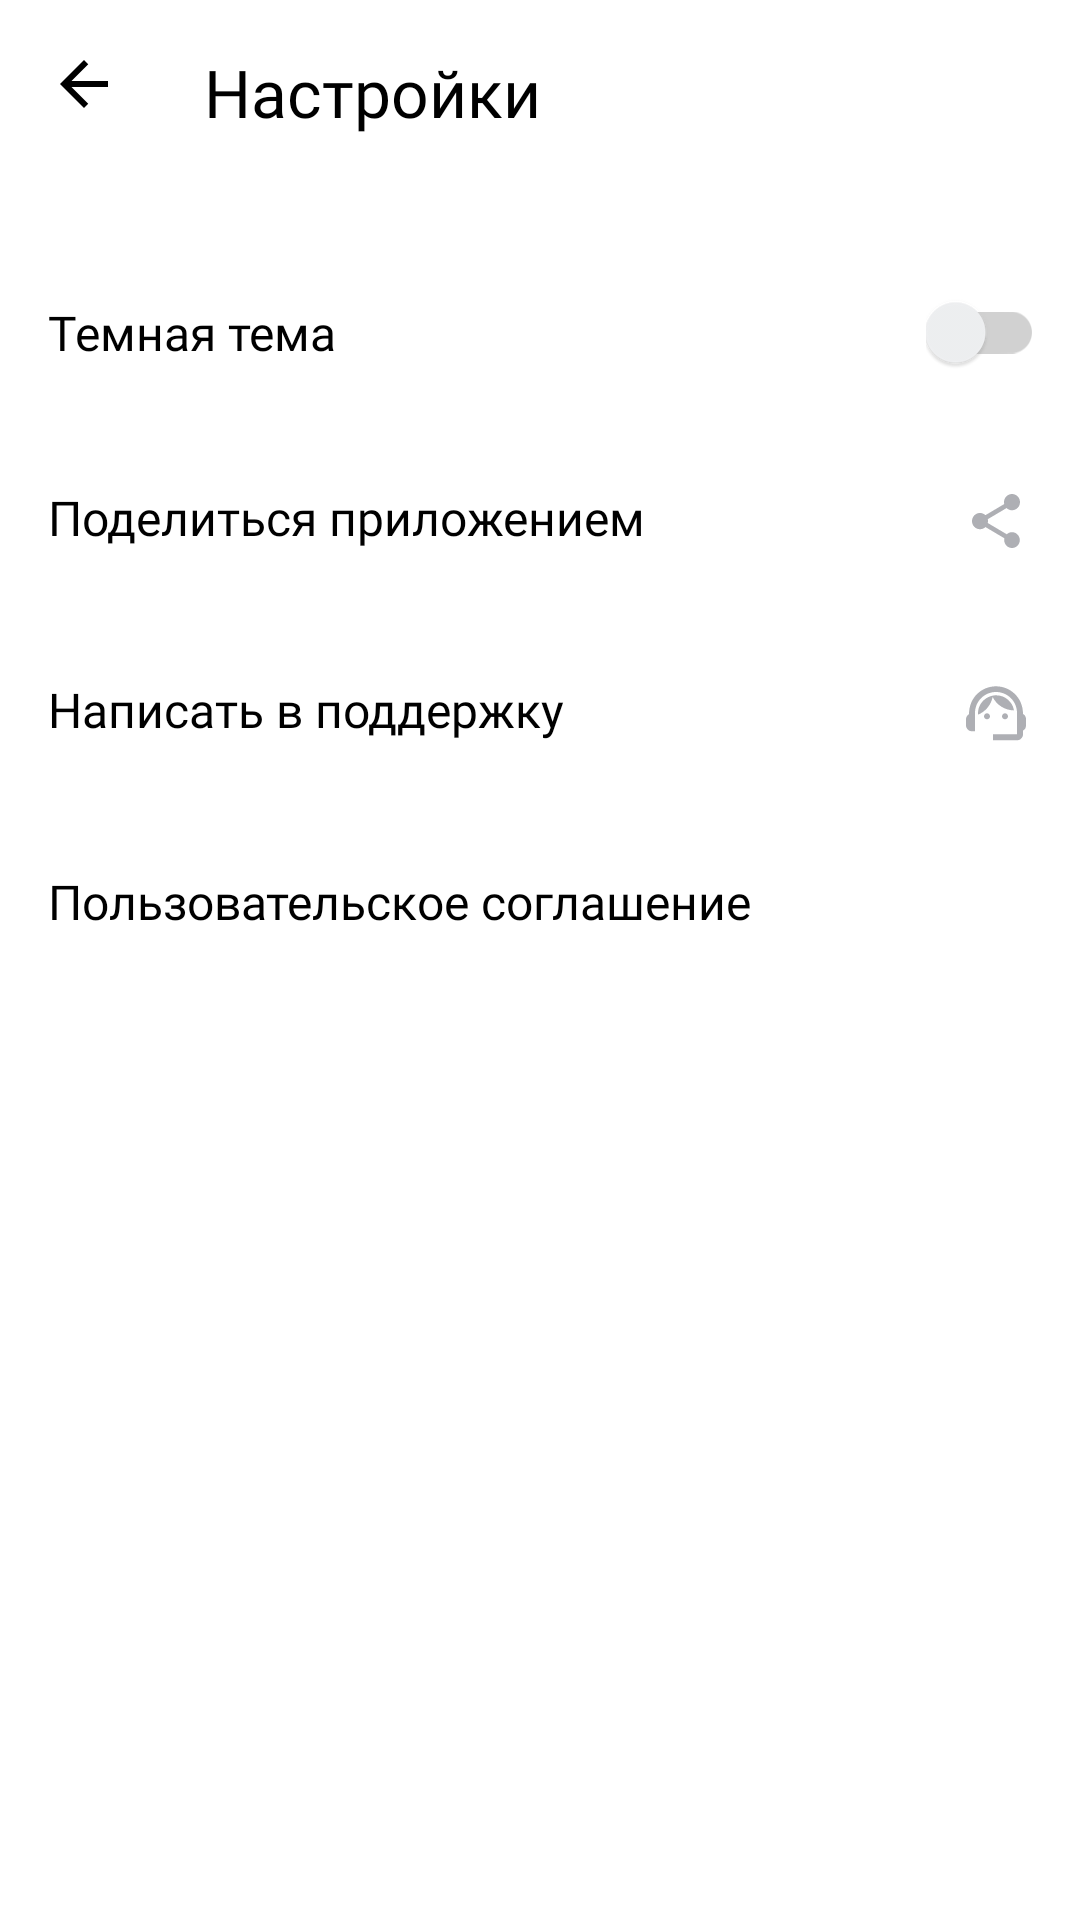

Where icons sit on this 1080w x 1920h app screen, as (x1, y1, x2, y2):
return back: (60, 60, 108, 108)
